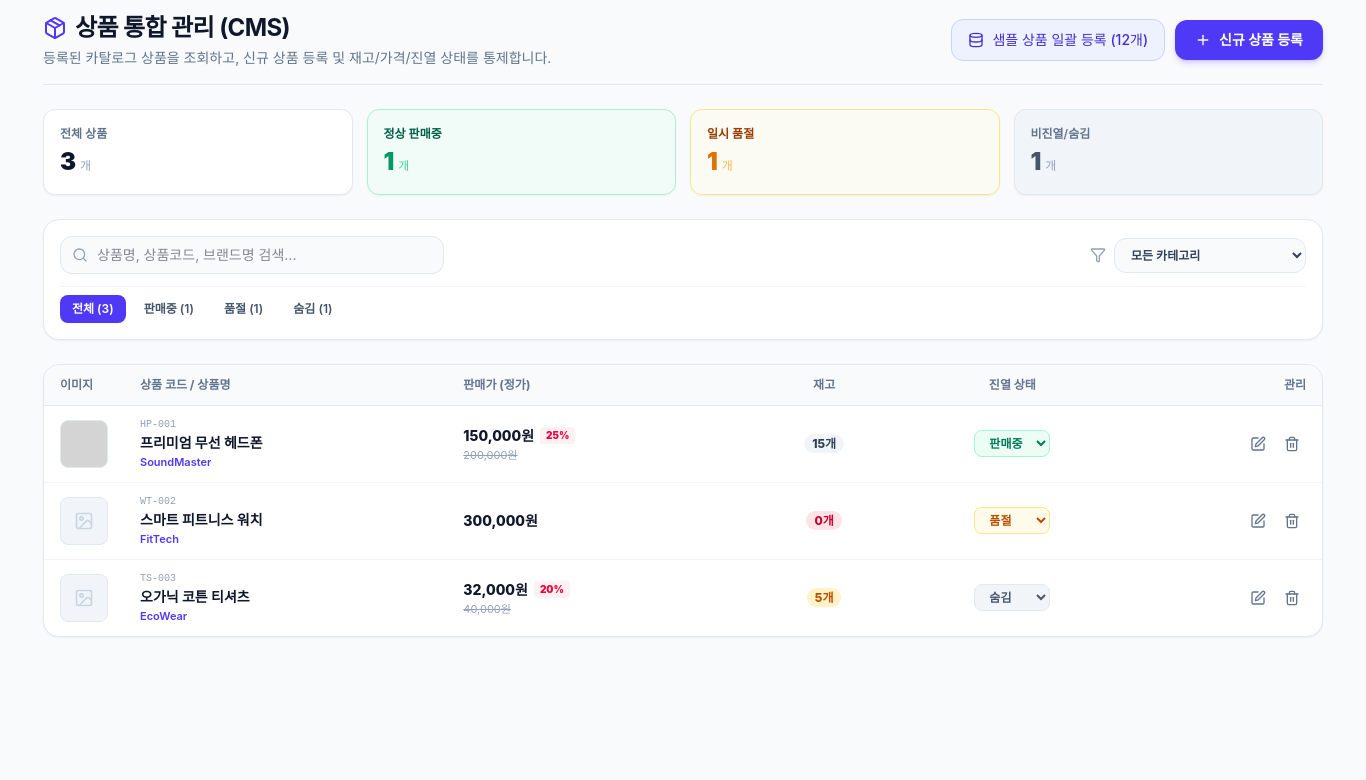
it: AdminProductListViewer Component › 상태 탭(품절)을 클릭하면 해당 상태 상품만 필터링된다
Click the button "품절 (1)" at (244, 309), box [212, 295, 275, 323]
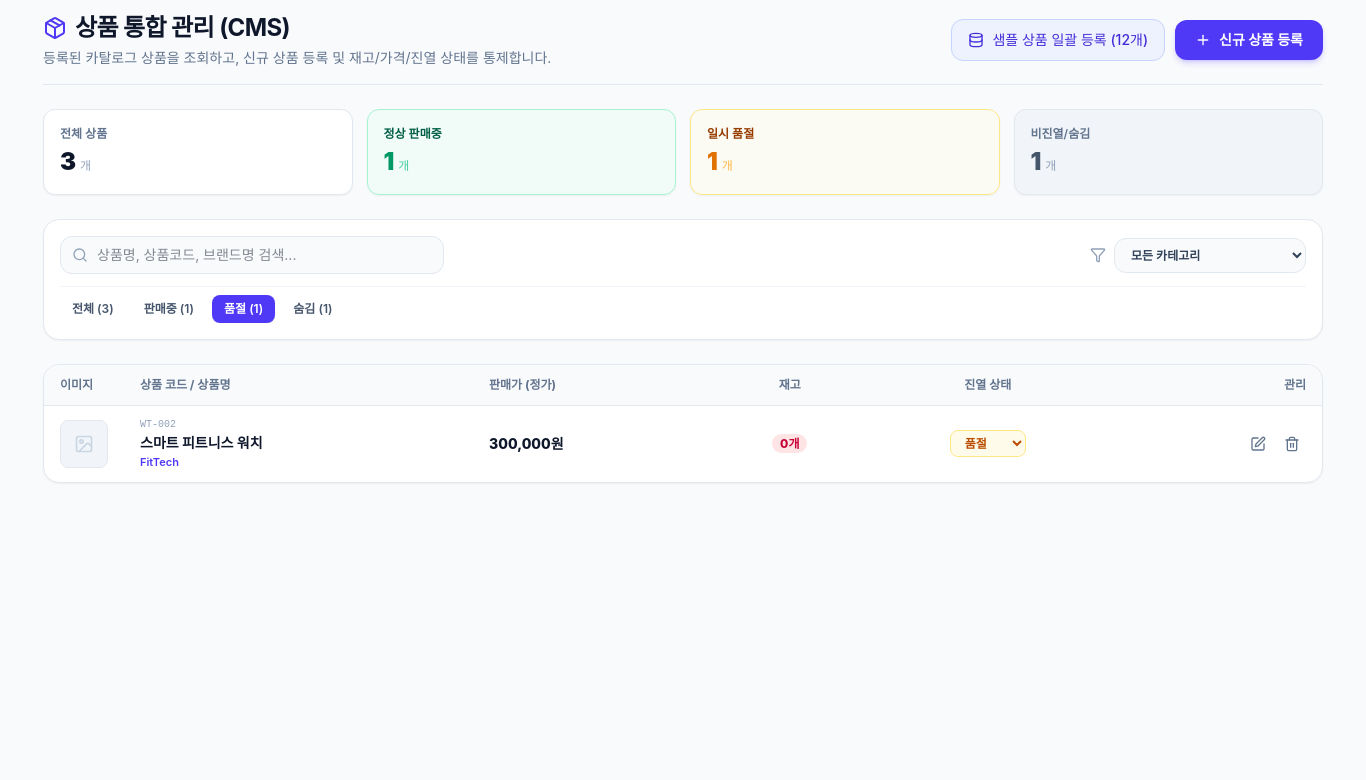
Expected: the text "스마트 피트니스 워치" is shown, [140, 434, 263, 451]
Now the text "프리미엄 무선 헤드폰" is gone
Now the text "오가닉 코튼 티셔츠" is gone
